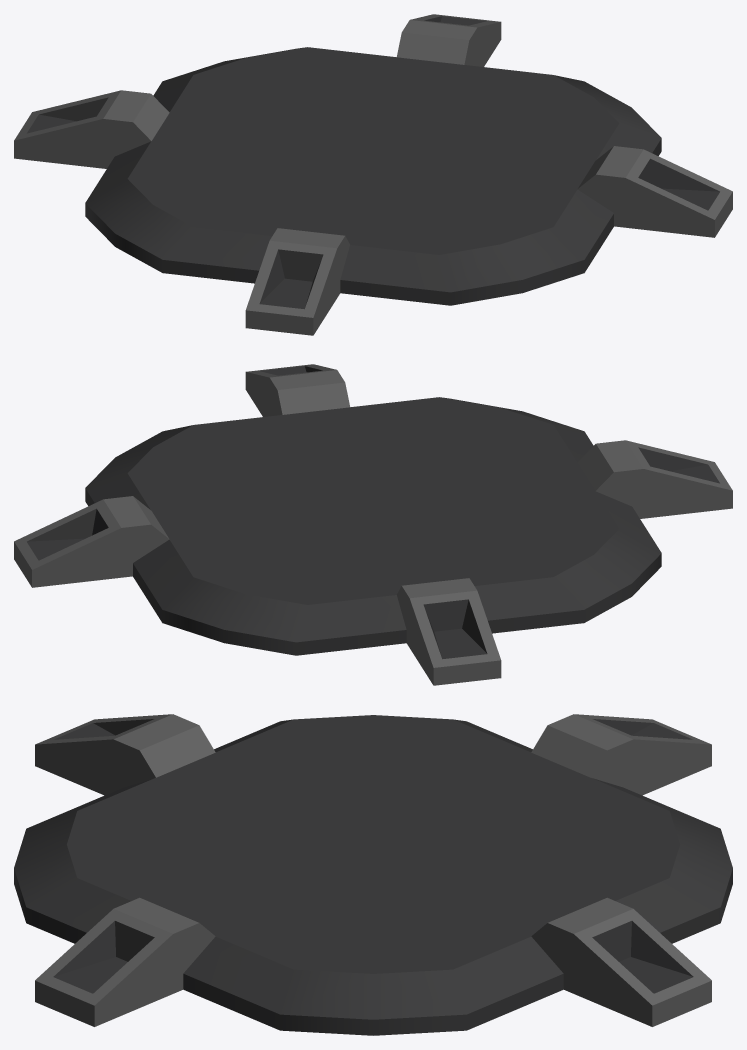
The model's file is Turret_001.fbx.
3 renders of one model, top to bottom at view 1: azimuth 30°, elevation 25°; view 2: azimuth 150°, elevation 25°; view 3: azimuth 270°, elevation 25°, orthographic. The views are drawn at different scales.
Parts seen in each view (by area): view 1: Turret_001; view 2: Turret_001; view 3: Turret_001.
Boxes of the visible parts, x1,y1,x2,y2 form: Turret_001: (14,14,732,335); Turret_001: (14,364,732,685); Turret_001: (14,714,732,1035).
Bounding box in the file's own units: 198 × 198 × 18.23.
